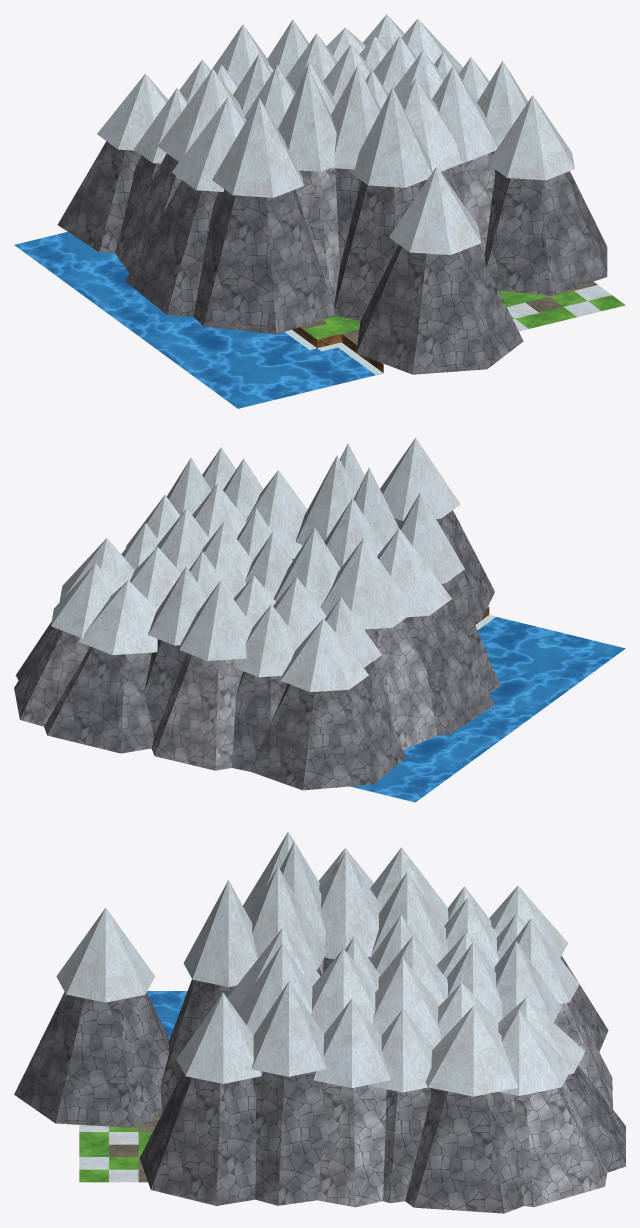
The model's file is chunk_4_0.glb.
The picture shows the model from 3 angles, top to bottom: view 1: azimuth 30°, elevation 25°; view 2: azimuth 150°, elevation 25°; view 3: azimuth 270°, elevation 25°; orthographic projection. The views are drawn at different scales.
Visible parts, largest first — view 1: chunk_4_0; view 2: chunk_4_0; view 3: chunk_4_0.
Boxes of the visible parts, x1,y1,x2,y2 form: chunk_4_0: [14, 14, 625, 408]; chunk_4_0: [14, 438, 625, 802]; chunk_4_0: [14, 831, 625, 1213].
Size of the model in its own units: 18.5 by 8.88 by 20.64.
10 materials, 9 textured.
